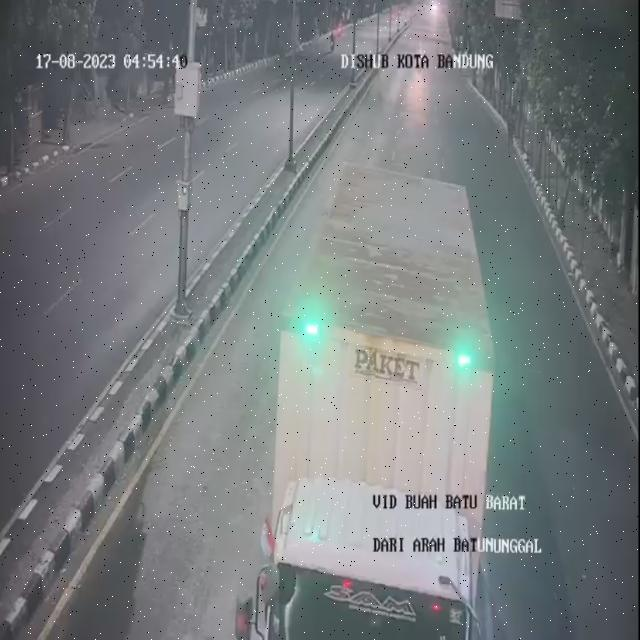truck: (243, 159, 494, 639)
